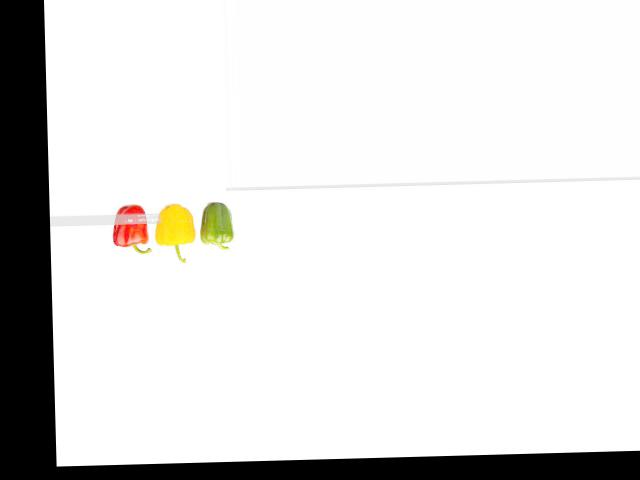bell_pepper: (200, 198, 238, 257)
